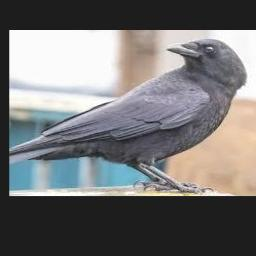Crow: (9, 39, 248, 194)
